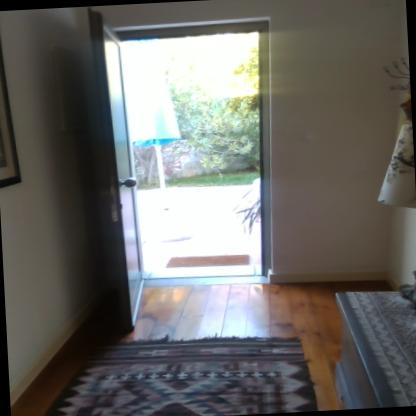open: (94, 19, 310, 319)
